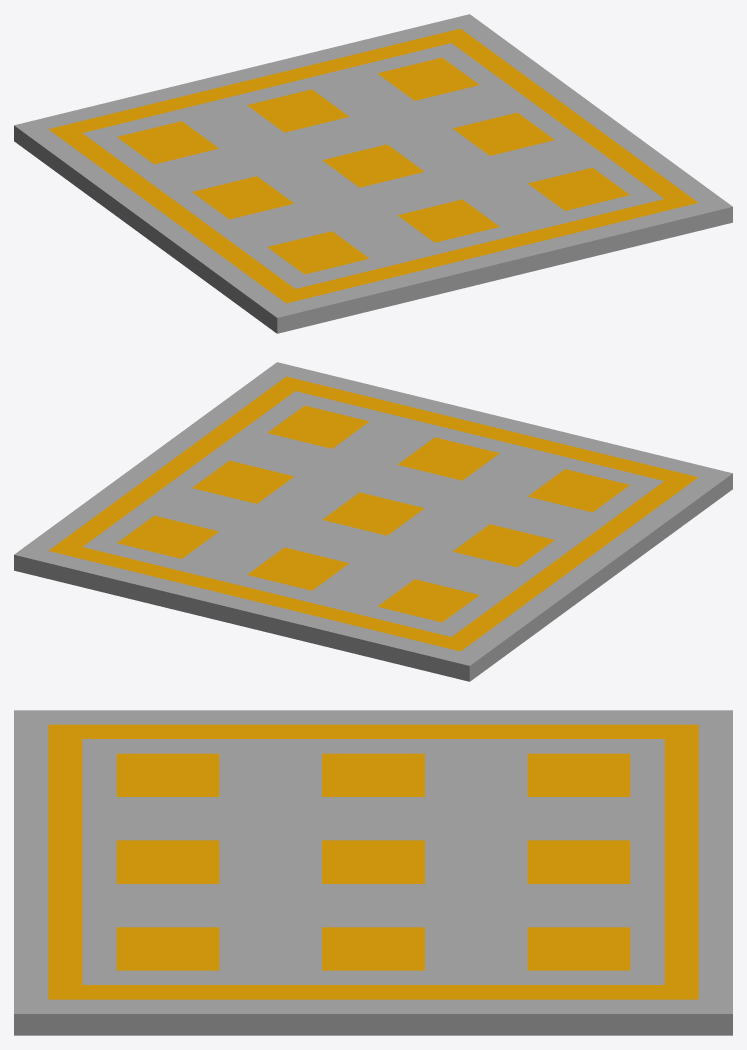
File: floor.fbx
3 views of the same model, one above another, from view 1: azimuth 30°, elevation 25°; view 2: azimuth 150°, elevation 25°; view 3: azimuth 270°, elevation 25° (orthographic). The views are drawn at different scales.
Parts seen in each view (by area): view 1: floor; view 2: floor; view 3: floor.
Part boxes in pixels (x1,y1,x2,y2): floor: [14, 14, 732, 333]; floor: [14, 362, 732, 681]; floor: [14, 710, 732, 1035].
Bounding box in the file's own units: 300 × 10 × 300.
